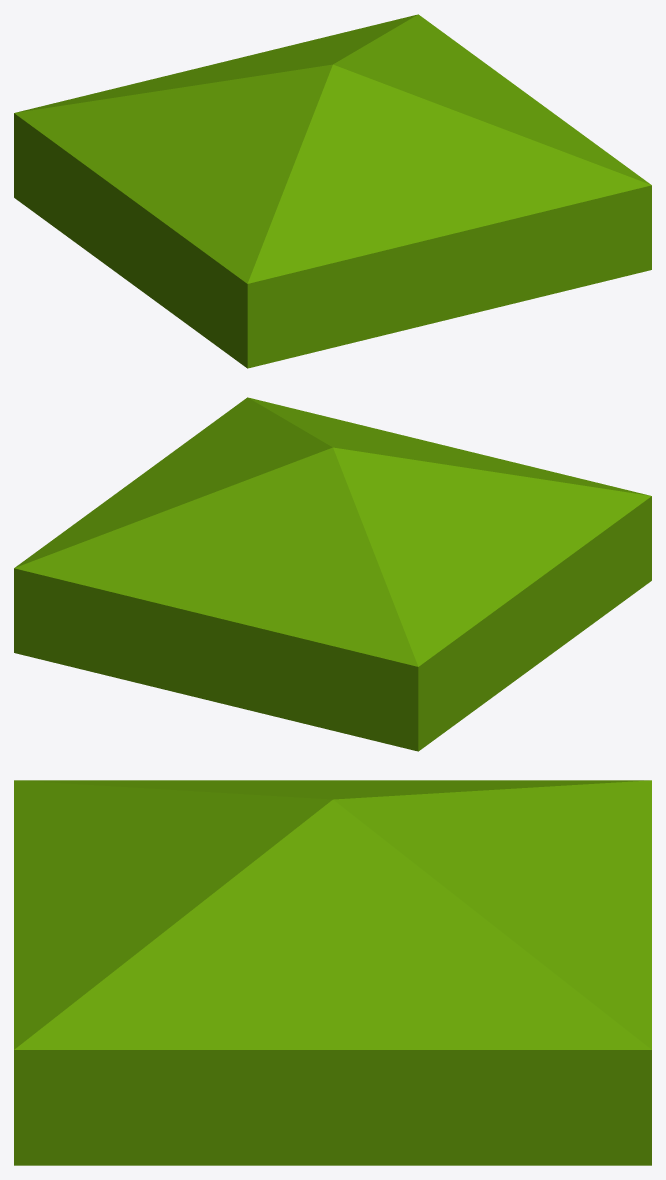
The model's file is TileGround_48.fbx.
3 views of the same model, one above another, from view 1: azimuth 30°, elevation 25°; view 2: azimuth 150°, elevation 25°; view 3: azimuth 270°, elevation 25° (orthographic). The views are drawn at different scales.
Parts seen in each view (by area): view 1: TileGround_48; view 2: TileGround_48; view 3: TileGround_48.
Boxes of the visible parts, x1,y1,x2,y2 form: TileGround_48: (14,14,651,368); TileGround_48: (14,397,651,751); TileGround_48: (14,780,651,1165).
Bounding box in the file's own units: 500 × 200 × 500.
